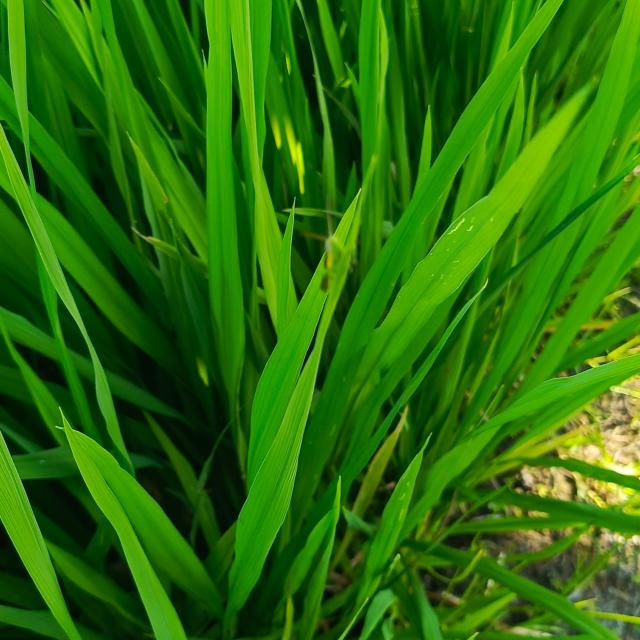belalang pada tanaman padi: (276, 185, 360, 293)
rice leaf roller -penggulung daun padi-: (2, 1, 638, 636)
